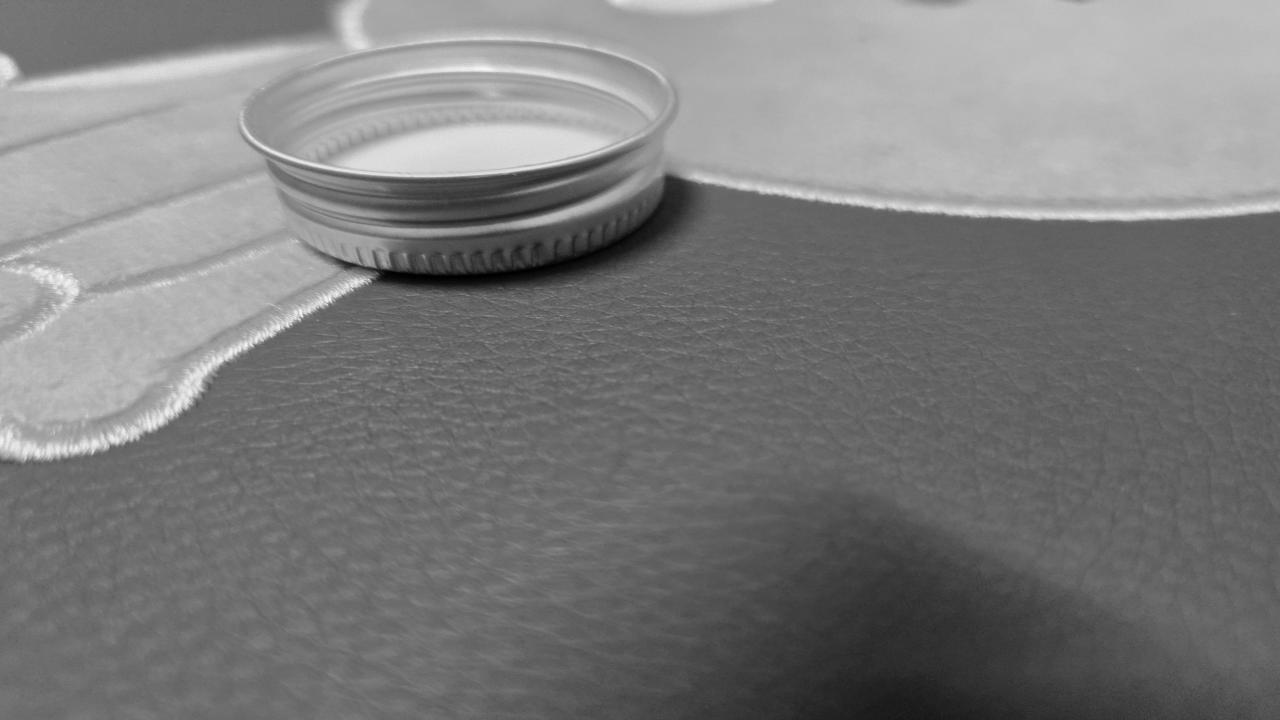bottle_cap: (243, 38, 674, 278)
